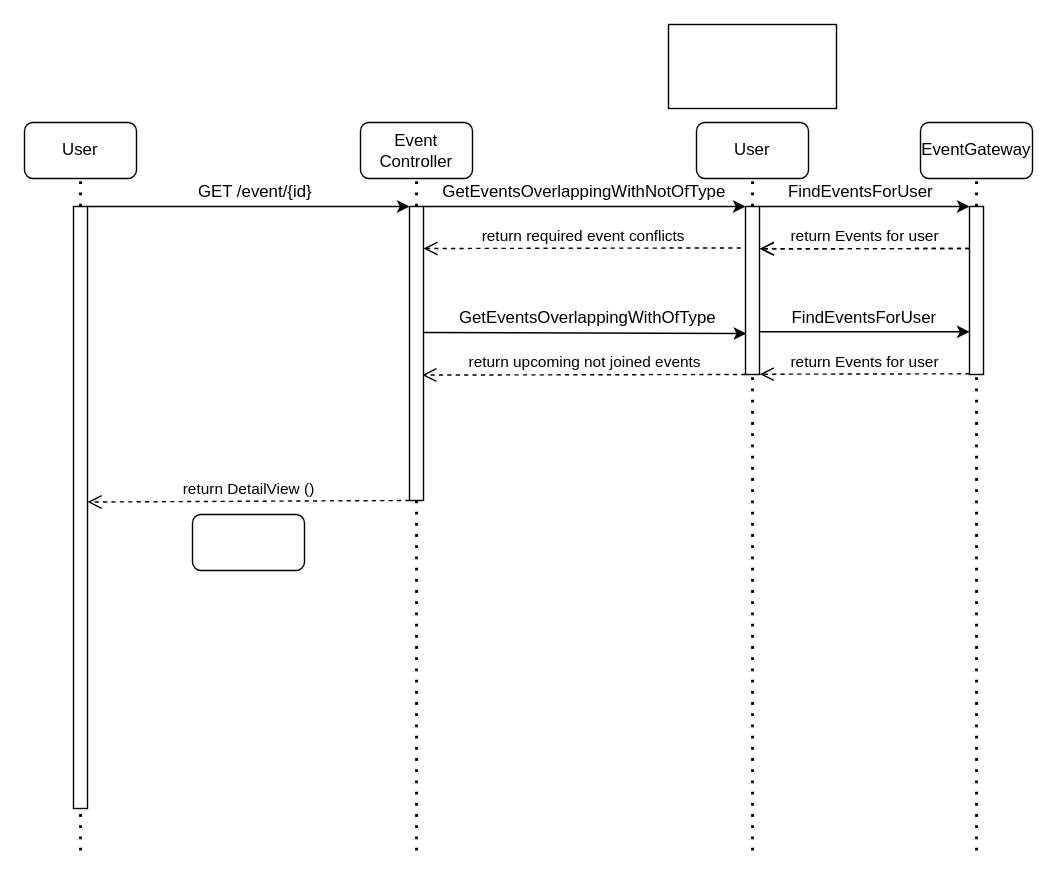
Some shapes in this 1057 by 878 pixel diagram are drawn without their labels. The shapes that lost their labels are listed below. From the top down, each one's centre as x and y in pixels, then its label:
At (x=751, y=65): "Business Layer User object".
At (x=247, y=541): "DetailView".
